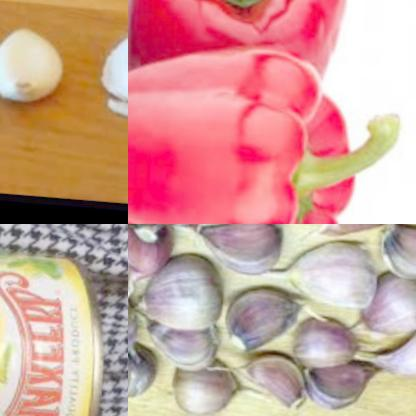bell pepper: (128, 23, 416, 224), (128, 0, 361, 95)
garlic: (254, 233, 388, 302), (133, 254, 231, 346), (220, 276, 319, 359), (298, 342, 388, 413), (0, 22, 69, 110), (169, 358, 267, 416), (292, 309, 367, 379), (145, 316, 226, 379), (194, 224, 283, 279), (232, 353, 315, 408), (356, 261, 416, 336), (128, 224, 176, 298), (364, 317, 416, 382), (99, 17, 128, 105), (300, 224, 407, 246), (379, 224, 416, 272)
